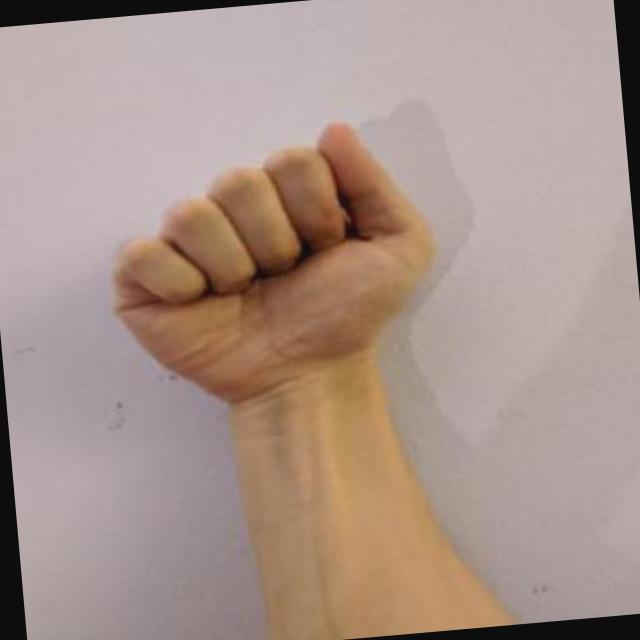A: (78, 99, 462, 429)
